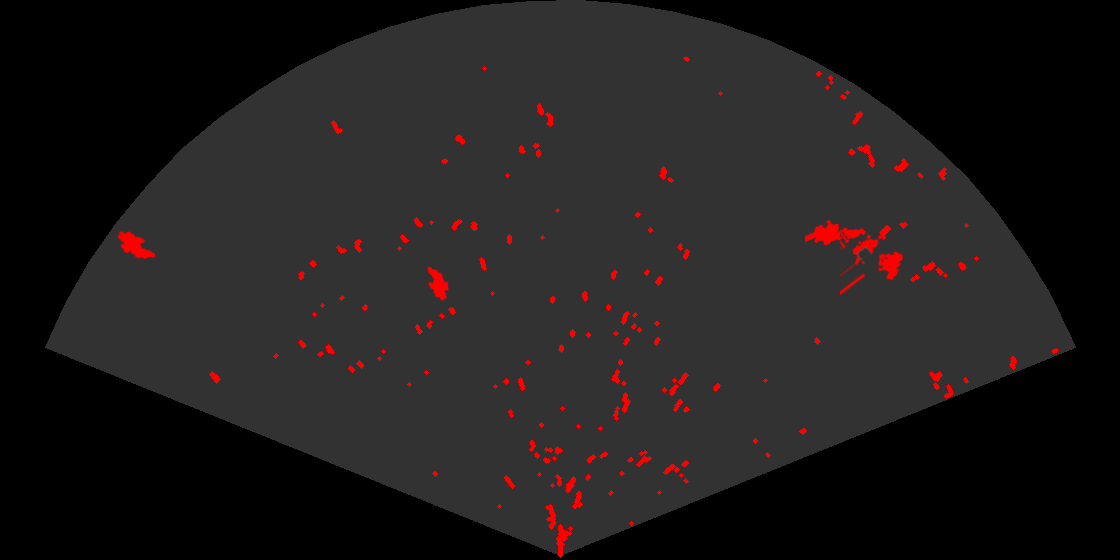AUV: (115, 229, 158, 261), (425, 265, 450, 303)
cage: (840, 229, 905, 297)
frogman: (805, 218, 868, 247)
